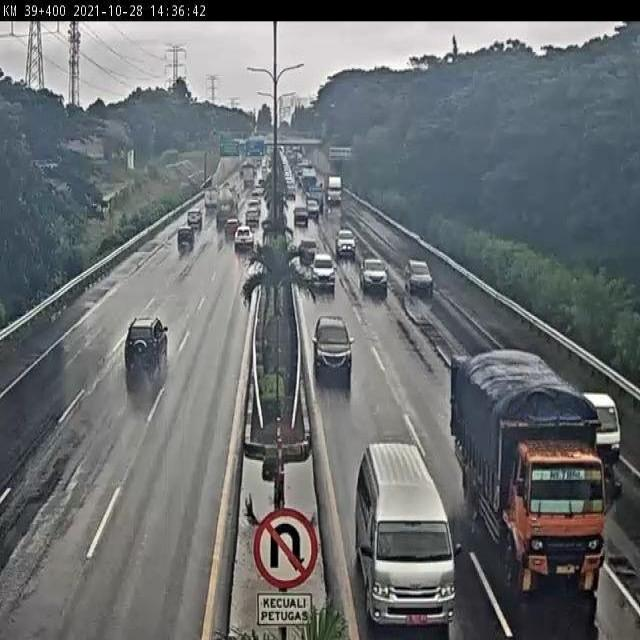bus-s-: (352, 441, 455, 632)
car: (570, 389, 623, 467)
truck-m-: (453, 348, 602, 595)
